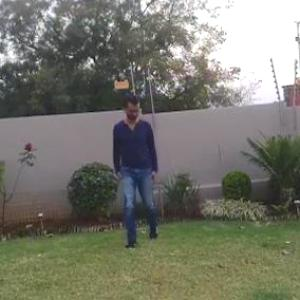follow: (104, 89, 158, 256)
